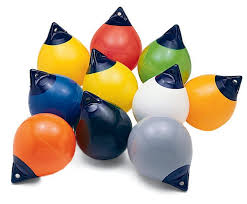buoy: (13, 113, 76, 178), (177, 75, 237, 131), (91, 24, 142, 69)
